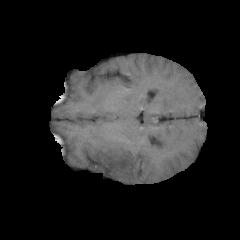glioma: (93, 143, 134, 178)
